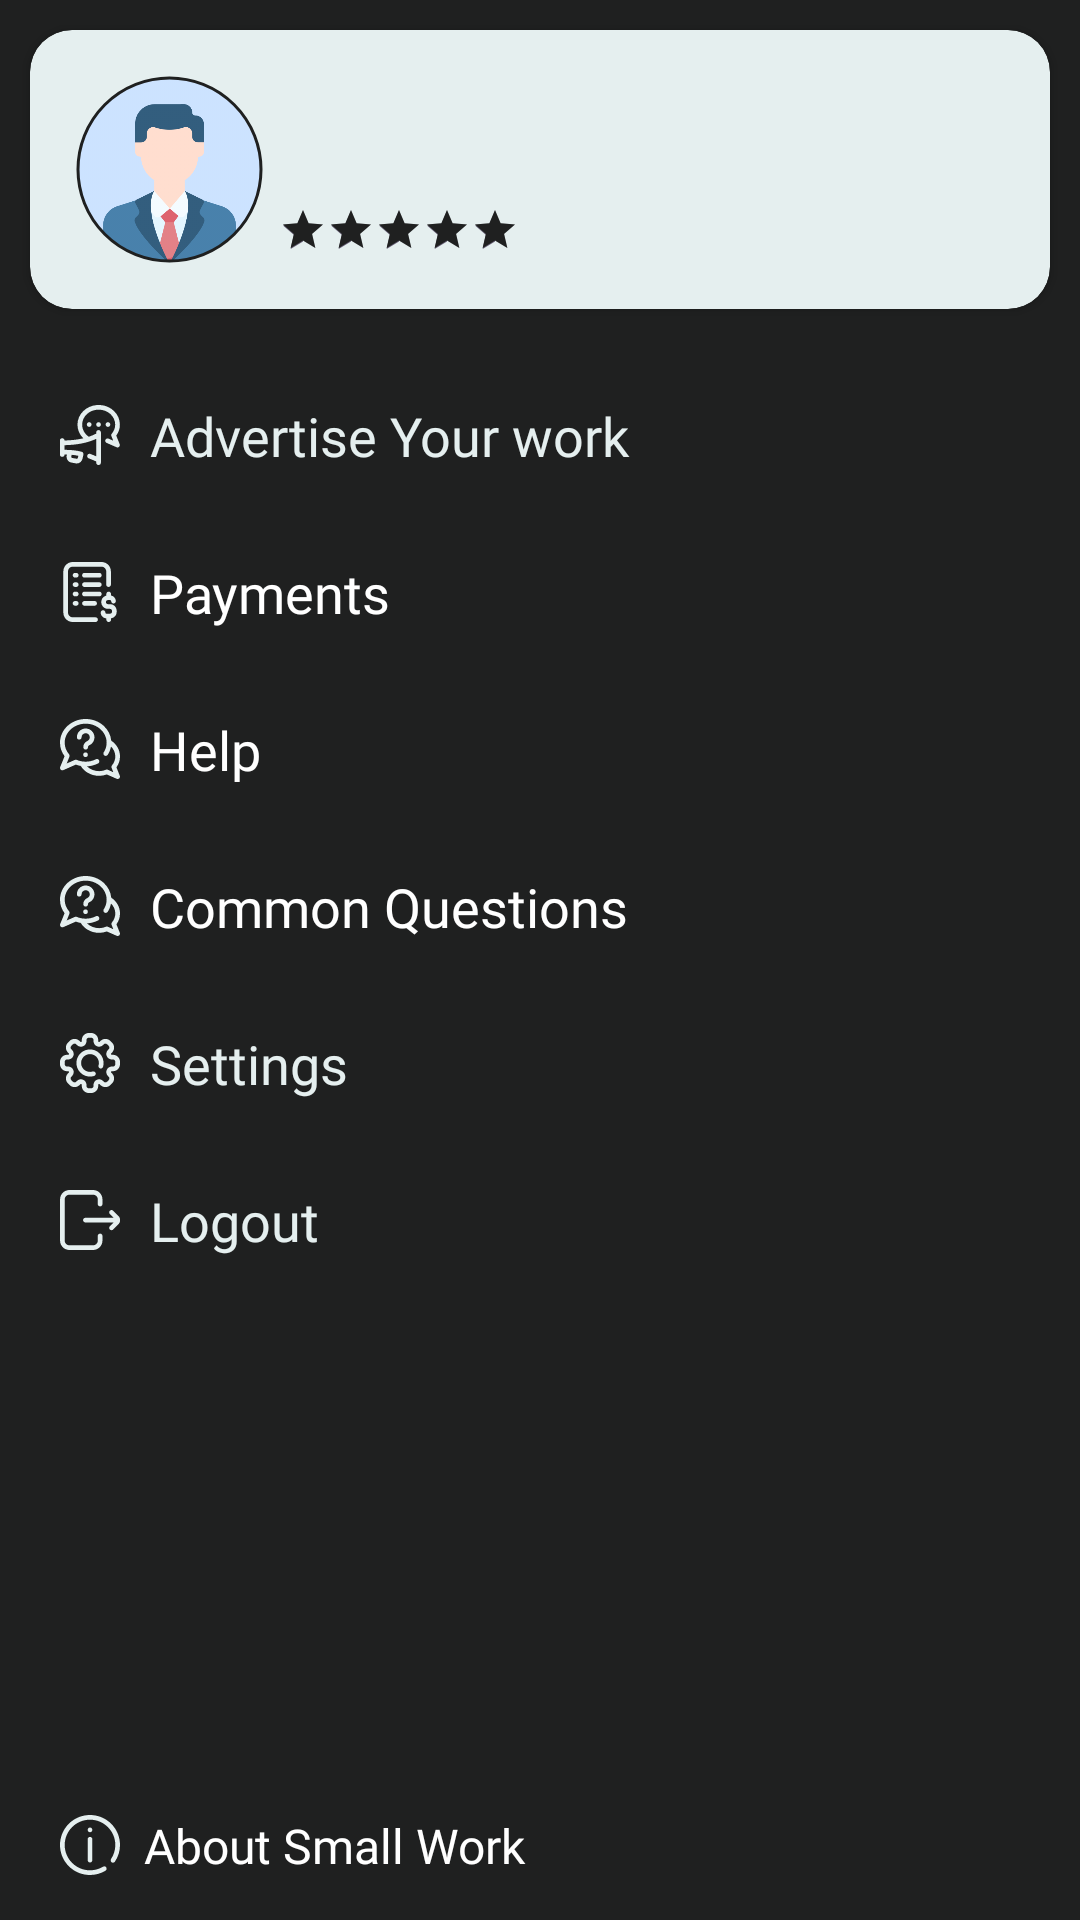

Icons on this 1080×1920 Android screen, each with its box as (x1, y1, x2, y2):
profile: (76, 76, 263, 263)
